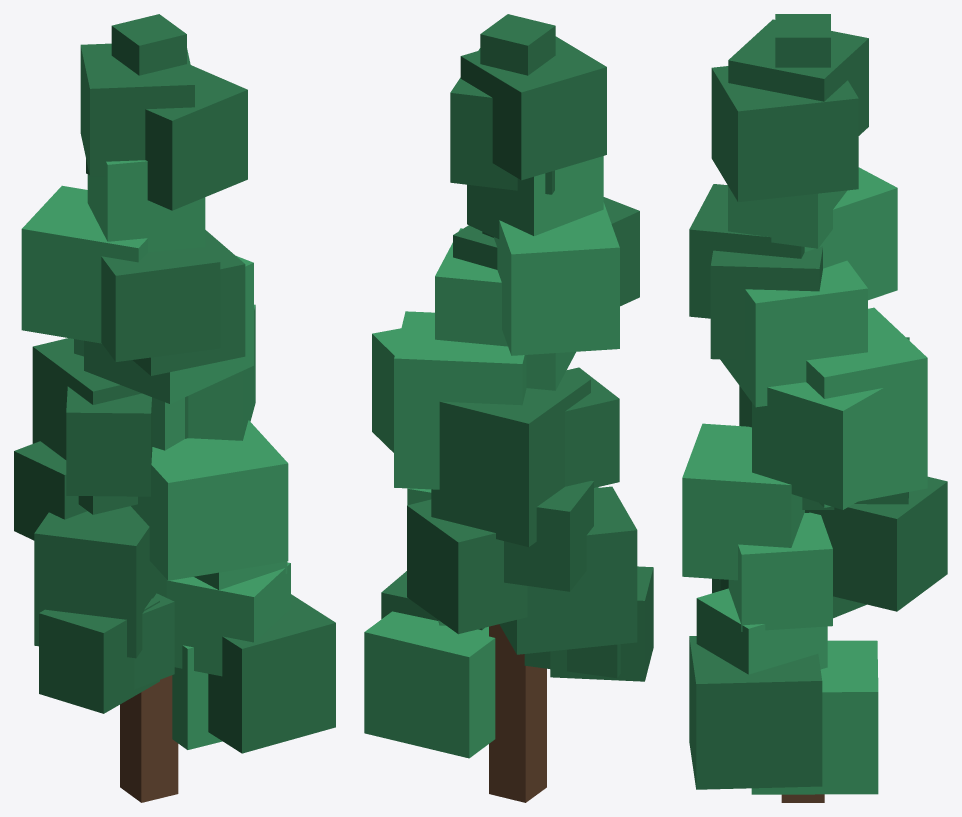
File: treePine.glb
3 renders of one model, left to right at view 1: azimuth 30°, elevation 25°; view 2: azimuth 150°, elevation 25°; view 3: azimuth 270°, elevation 25°, orthographic.
Parts seen in each view (by area): view 1: treePine_leafDark, treePine_leafMid, treePine_bark; view 2: treePine_leafDark, treePine_leafMid, treePine_bark; view 3: treePine_leafMid, treePine_leafDark.
Boxes of the visible parts, left/top/right/bottom form: treePine_leafDark: left=14, top=14, right=335, bottom=753; treePine_leafMid: left=21, top=160, right=290, bottom=749; treePine_bark: left=120, top=675, right=178, bottom=802; treePine_leafDark: left=381, top=14, right=653, bottom=681; treePine_leafMid: left=364, top=156, right=619, bottom=758; treePine_bark: left=489, top=624, right=546, bottom=802; treePine_leafMid: left=682, top=167, right=927, bottom=794; treePine_leafDark: left=689, top=14, right=947, bottom=789.
Bounding box in the file's own units: 5.82 × 16.75 × 5.25.
